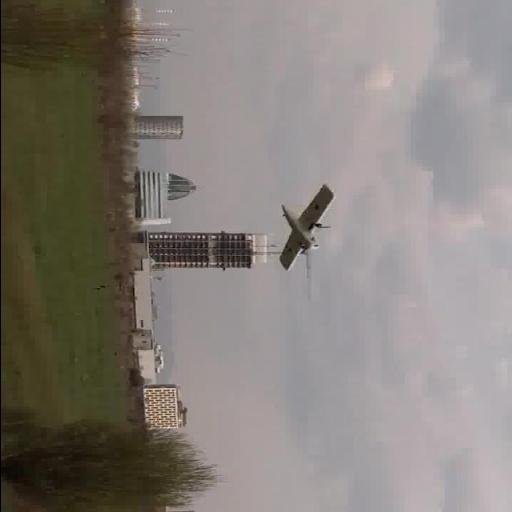uav: (262, 179, 342, 273)
